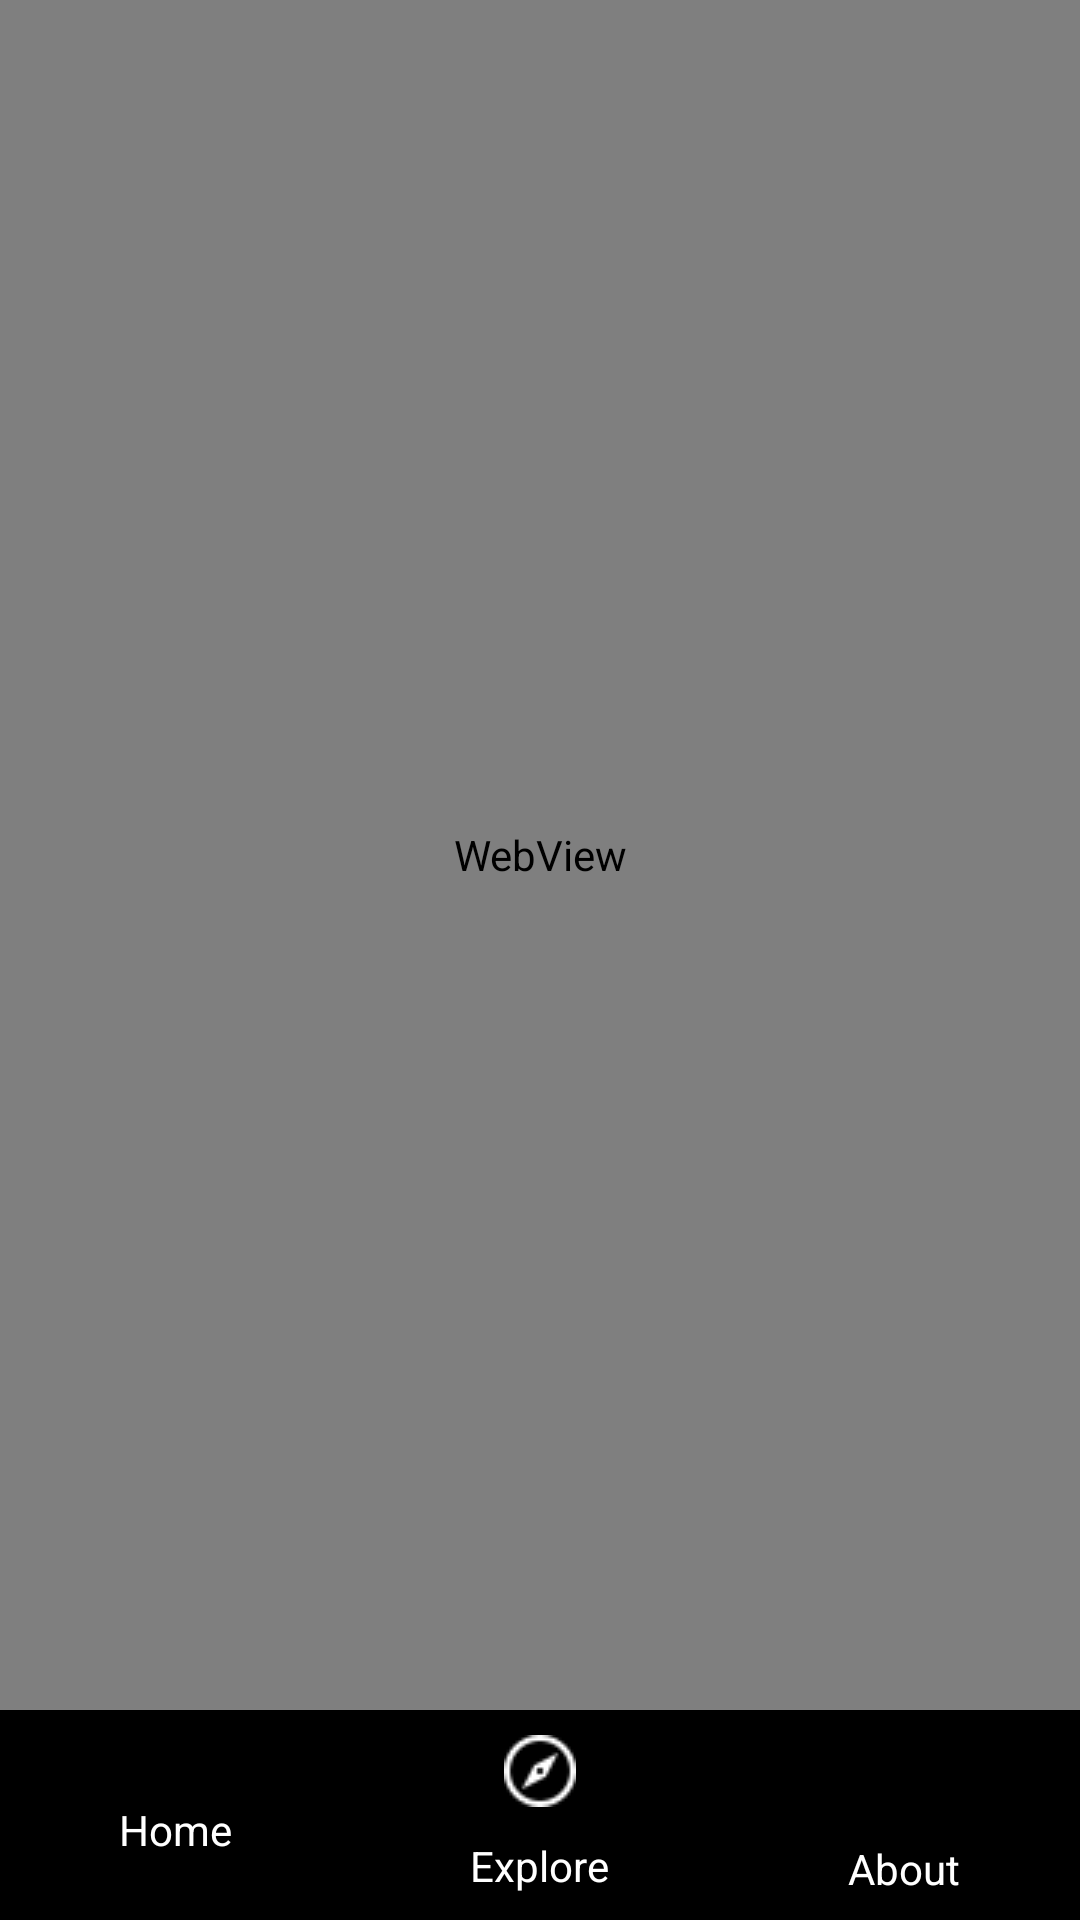

Point at icon controls on the screen. Image size 1080px x 1920px, points as [x,y].
compass: [540,1771]
